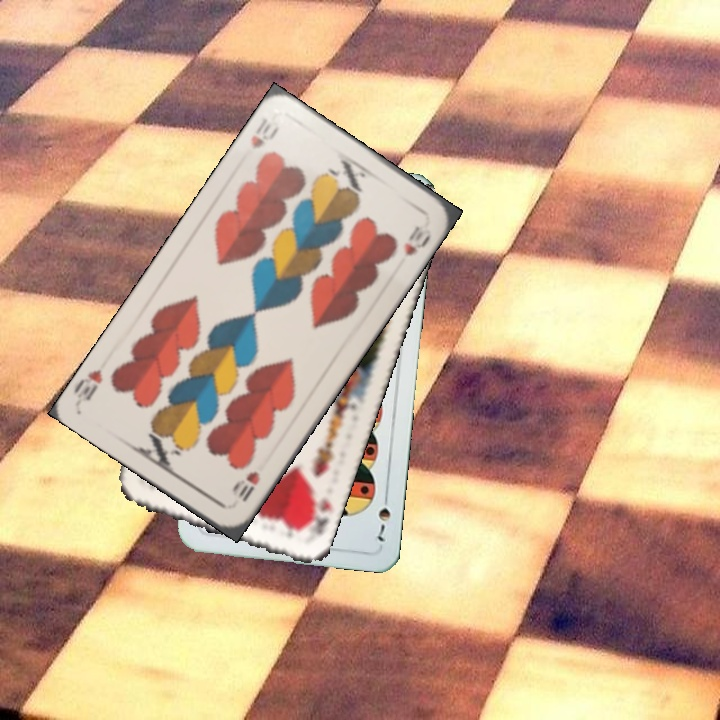H10: (246, 113, 282, 152), (234, 466, 263, 505)
HK: (299, 487, 335, 538)
S7: (373, 487, 393, 544)
